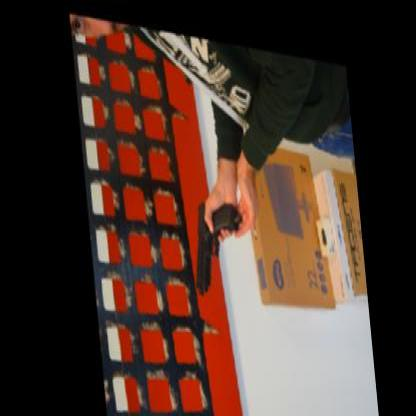pistol: (184, 186, 244, 293)
